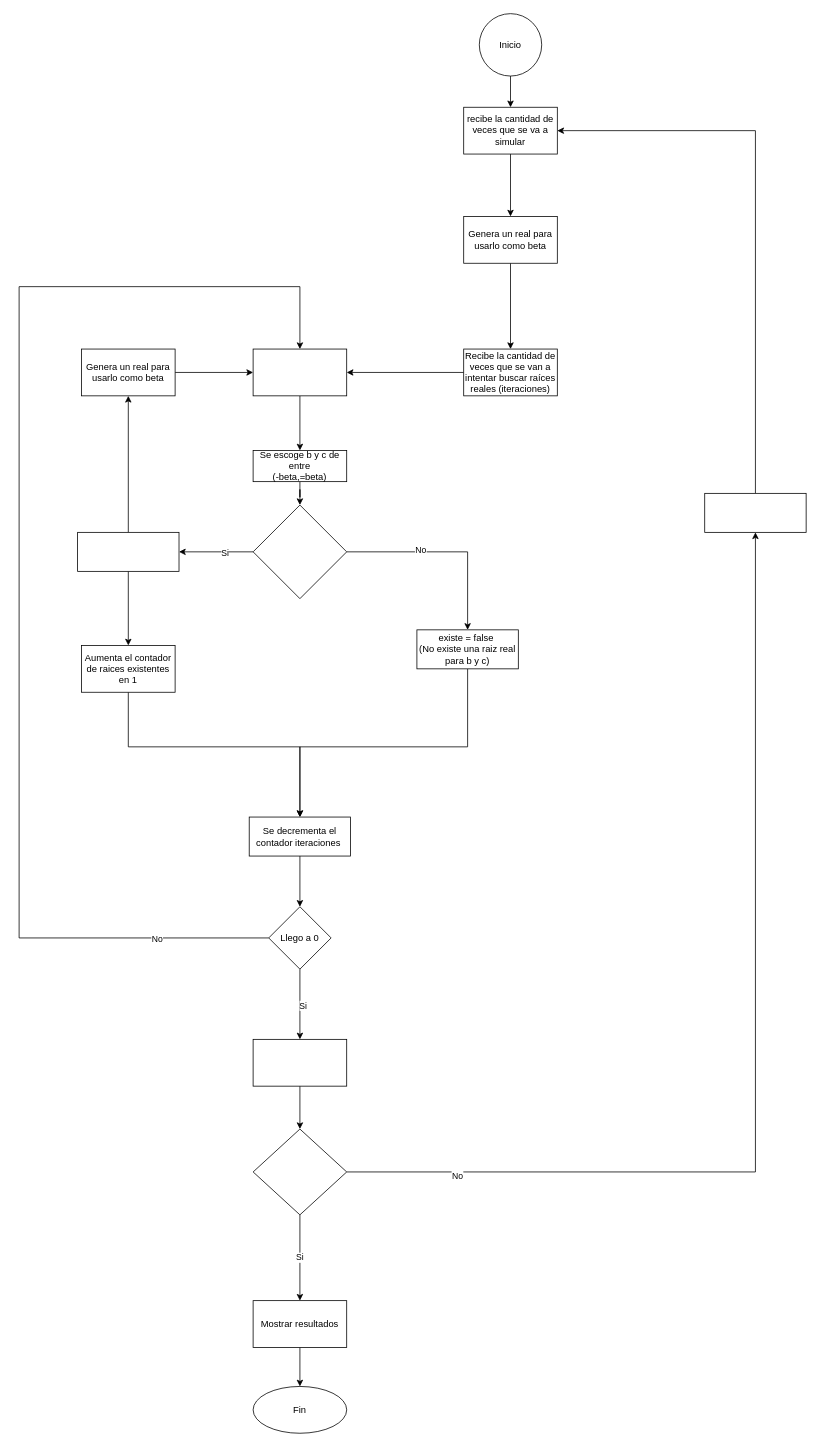
Some shapes in this 820 by 1447 pixel diagram are drawn without their labels. Each missing label, with the box of its shape:
b y c son raíces reales (Usando fórmula General): (252, 504, 347, 599)
El contador de simulaciones llego a 0: (252, 1128, 347, 1215)
existe = true (Sí existe una raiz real para b y c): (77, 532, 179, 571)
retornar el porcentaje de raices del total y la cantidad de raices que existe: (252, 1039, 347, 1086)
Se crea un contador para saber cuántas raíces hay y se iguala a 0: (252, 348, 347, 396)
Se resta en 1 la cantidad de veces que se desea simular: (704, 493, 806, 532)
